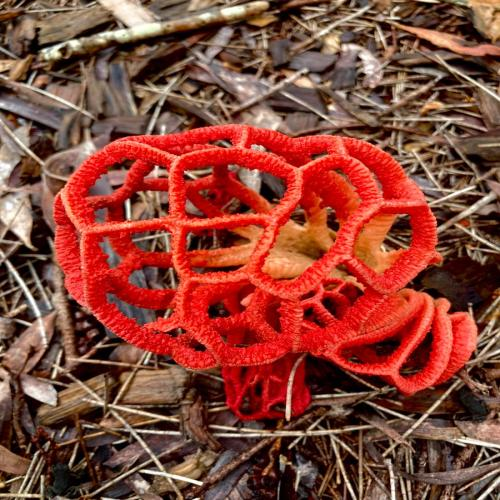Red Cage Fungus: (39, 86, 484, 446)
